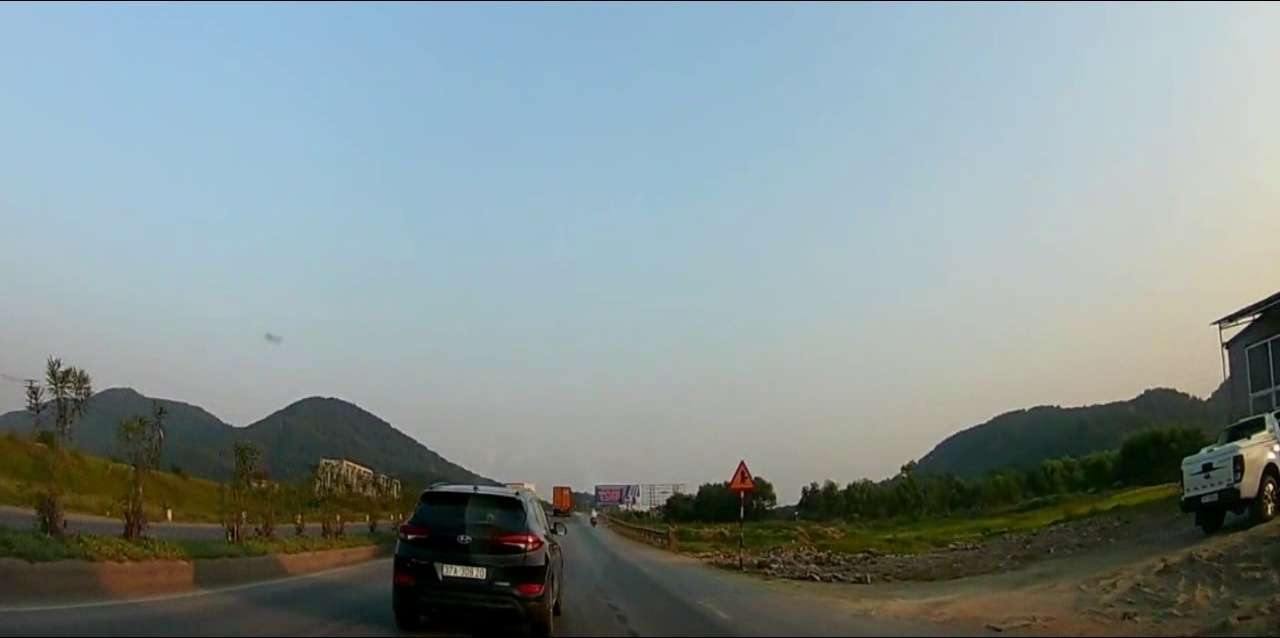Giao nhau voi duong khong uu tien: (726, 459, 758, 489)
